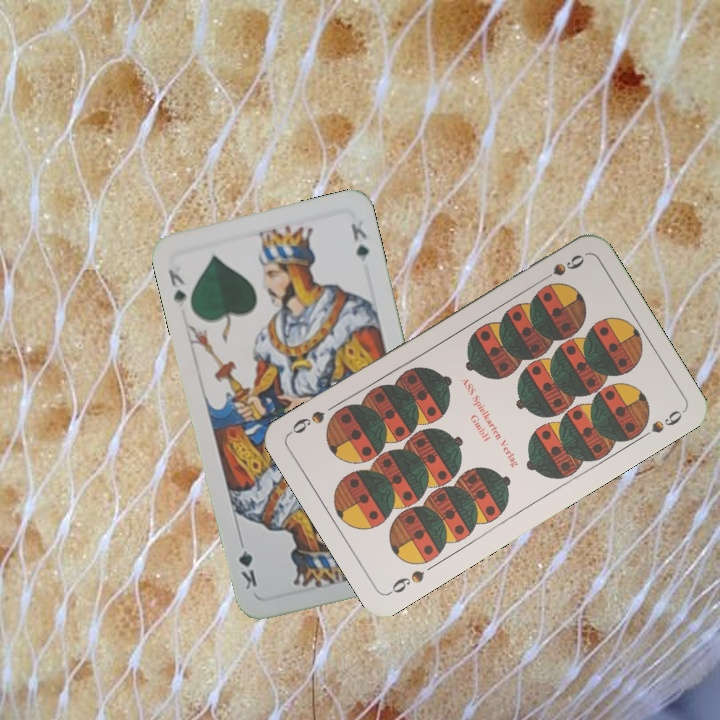GK: (164, 265, 189, 310)
S9: (533, 250, 588, 287), (384, 565, 427, 597)
